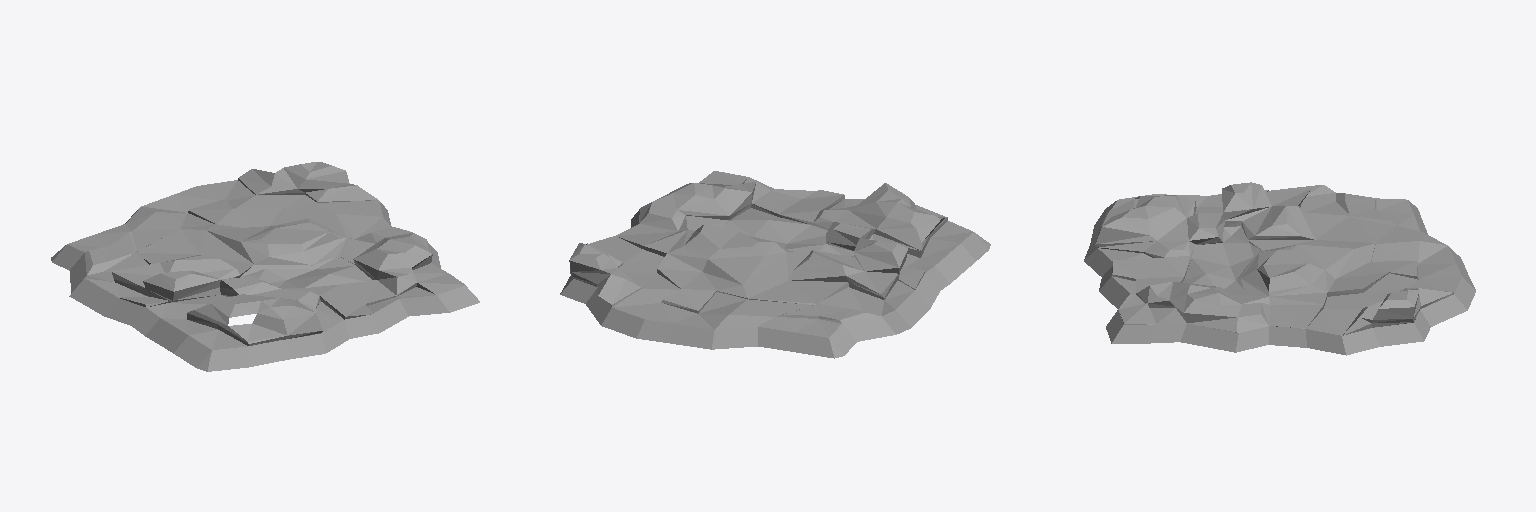
Rendered from Rubble04.obj.
The picture shows the model from 3 angles: view 1: azimuth 30°, elevation 25°; view 2: azimuth 150°, elevation 25°; view 3: azimuth 270°, elevation 25°; orthographic projection.
Visible parts, largest first — view 1: Rubble04; view 2: Rubble04; view 3: Rubble04.
Boxes of the visible parts, x1,y1,x2,y2 form: Rubble04: [51, 162, 479, 371]; Rubble04: [560, 171, 990, 358]; Rubble04: [1084, 182, 1475, 355].
Bounding box in the file's own units: 2.63 × 0.3057 × 2.71.